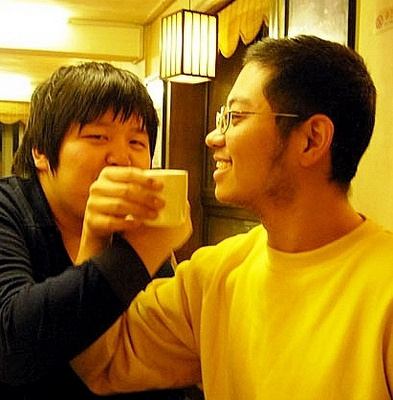face: (52, 97, 153, 233), (206, 61, 295, 204)
